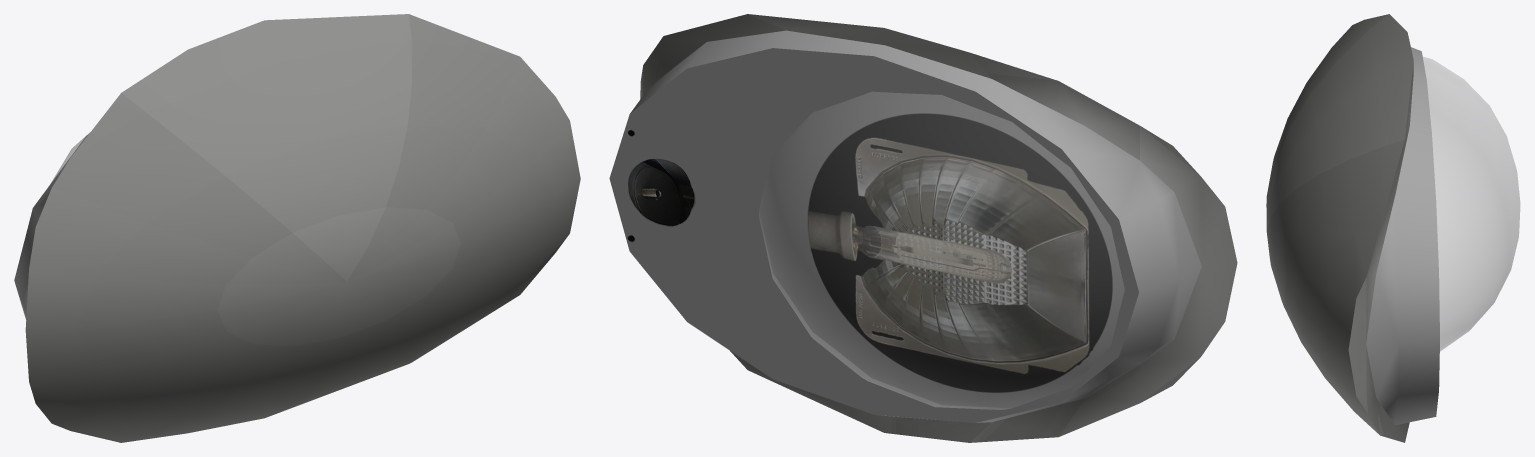
3 views of the same model, side by side, from view 1: azimuth 30°, elevation 25°; view 2: azimuth 150°, elevation 25°; view 3: azimuth 270°, elevation 25° (orthographic). The views are drawn at different scales.
Visible parts, largest first — view 1: Sphere; view 2: Sphere, Glas; view 3: Sphere, Glas.
Boxes of the visible parts, box(x1,y1,x2,y2) form: Sphere: box(14, 14, 580, 442); Sphere: box(609, 14, 1237, 442); Glas: box(759, 92, 1124, 409); Sphere: box(1266, 14, 1439, 442); Glas: box(1423, 56, 1520, 351).
Bounding box in the file's own units: 0.6905 × 0.4595 × 0.3066.
